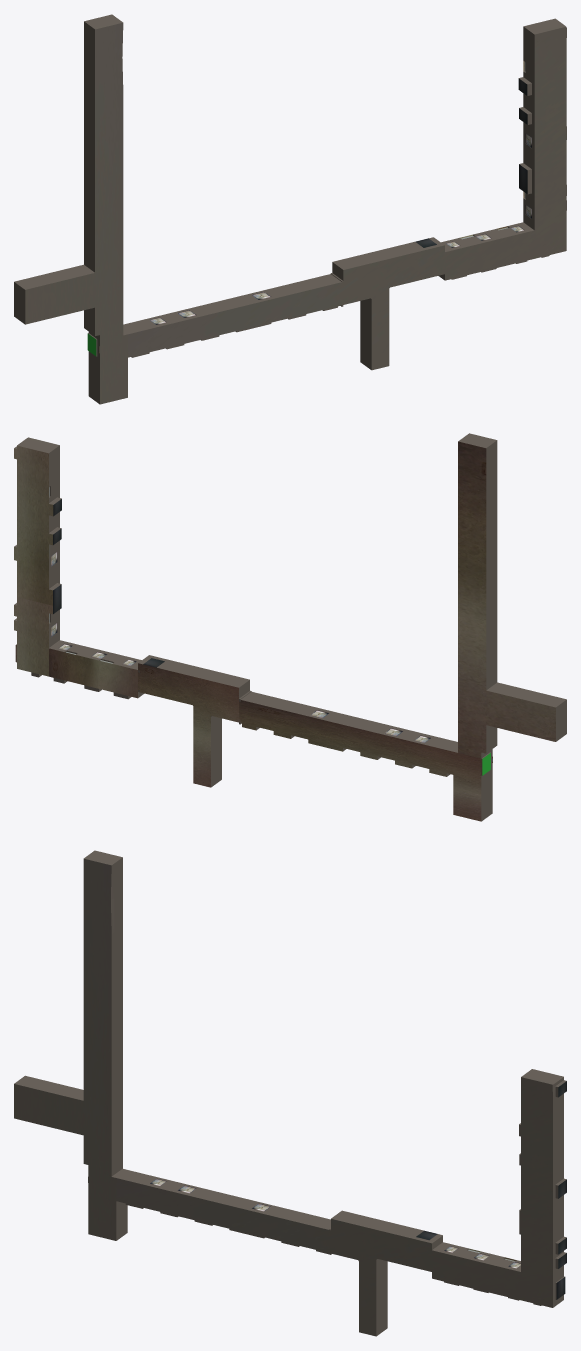
The model's file is esat.dae.
The picture shows the model from 3 angles, top to bottom: view 1: azimuth 30°, elevation 25°; view 2: azimuth 150°, elevation 25°; view 3: azimuth 330°, elevation 25°; orthographic projection.
Parts seen in each view (by area): view 1: Cube; view 2: Cube; view 3: Cube.
Part boxes in pixels (bbox=[...]): Cube: bbox=[14, 14, 566, 404]; Cube: bbox=[14, 433, 566, 821]; Cube: bbox=[14, 850, 566, 1336].
Bounding box in the file's own units: 70.17 × 50.31 × 2.51.
Materials: 7 (7 with a texture image).
